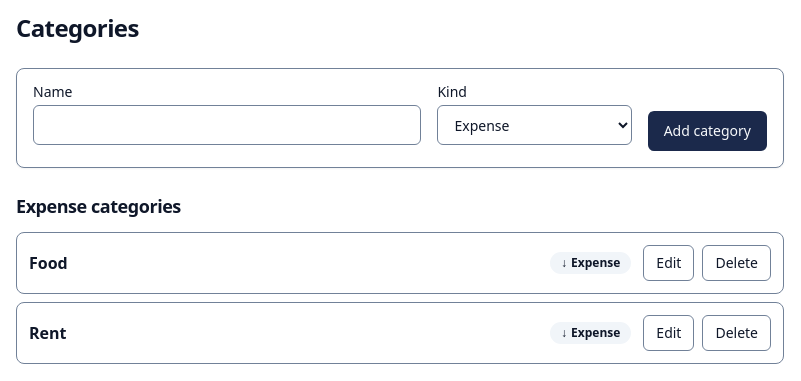
delete a category (Story-004 AC-3, AC-4) › T-032 Delete then confirm removes an unused category
Expected: the text "Food" is shown, 29,252 -> 68,274
Click the button with aria-label "Delete Food". click: coordinates (737, 263)
box: 702,245 -> 771,281
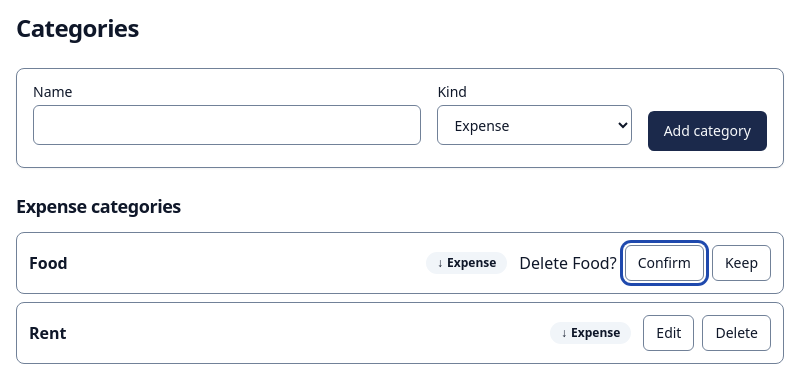
Click the button with aria-label "Confirm delete Food". click: coordinates (664, 263)
box: 625,245 -> 704,281
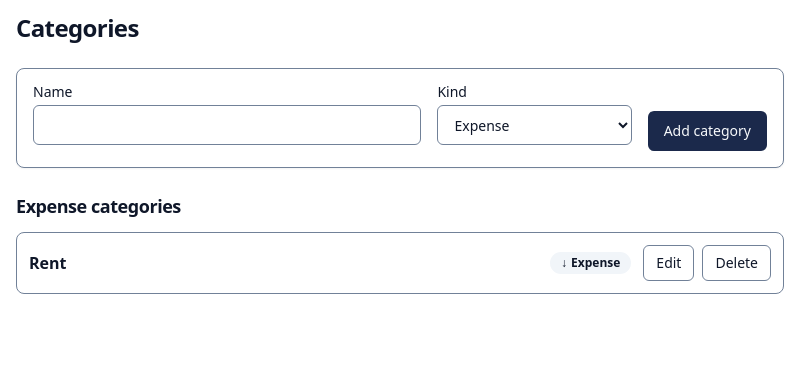
Expected: the text "Rent" is shown, 29,252 -> 66,274
Expected: the text "Food" is gone
